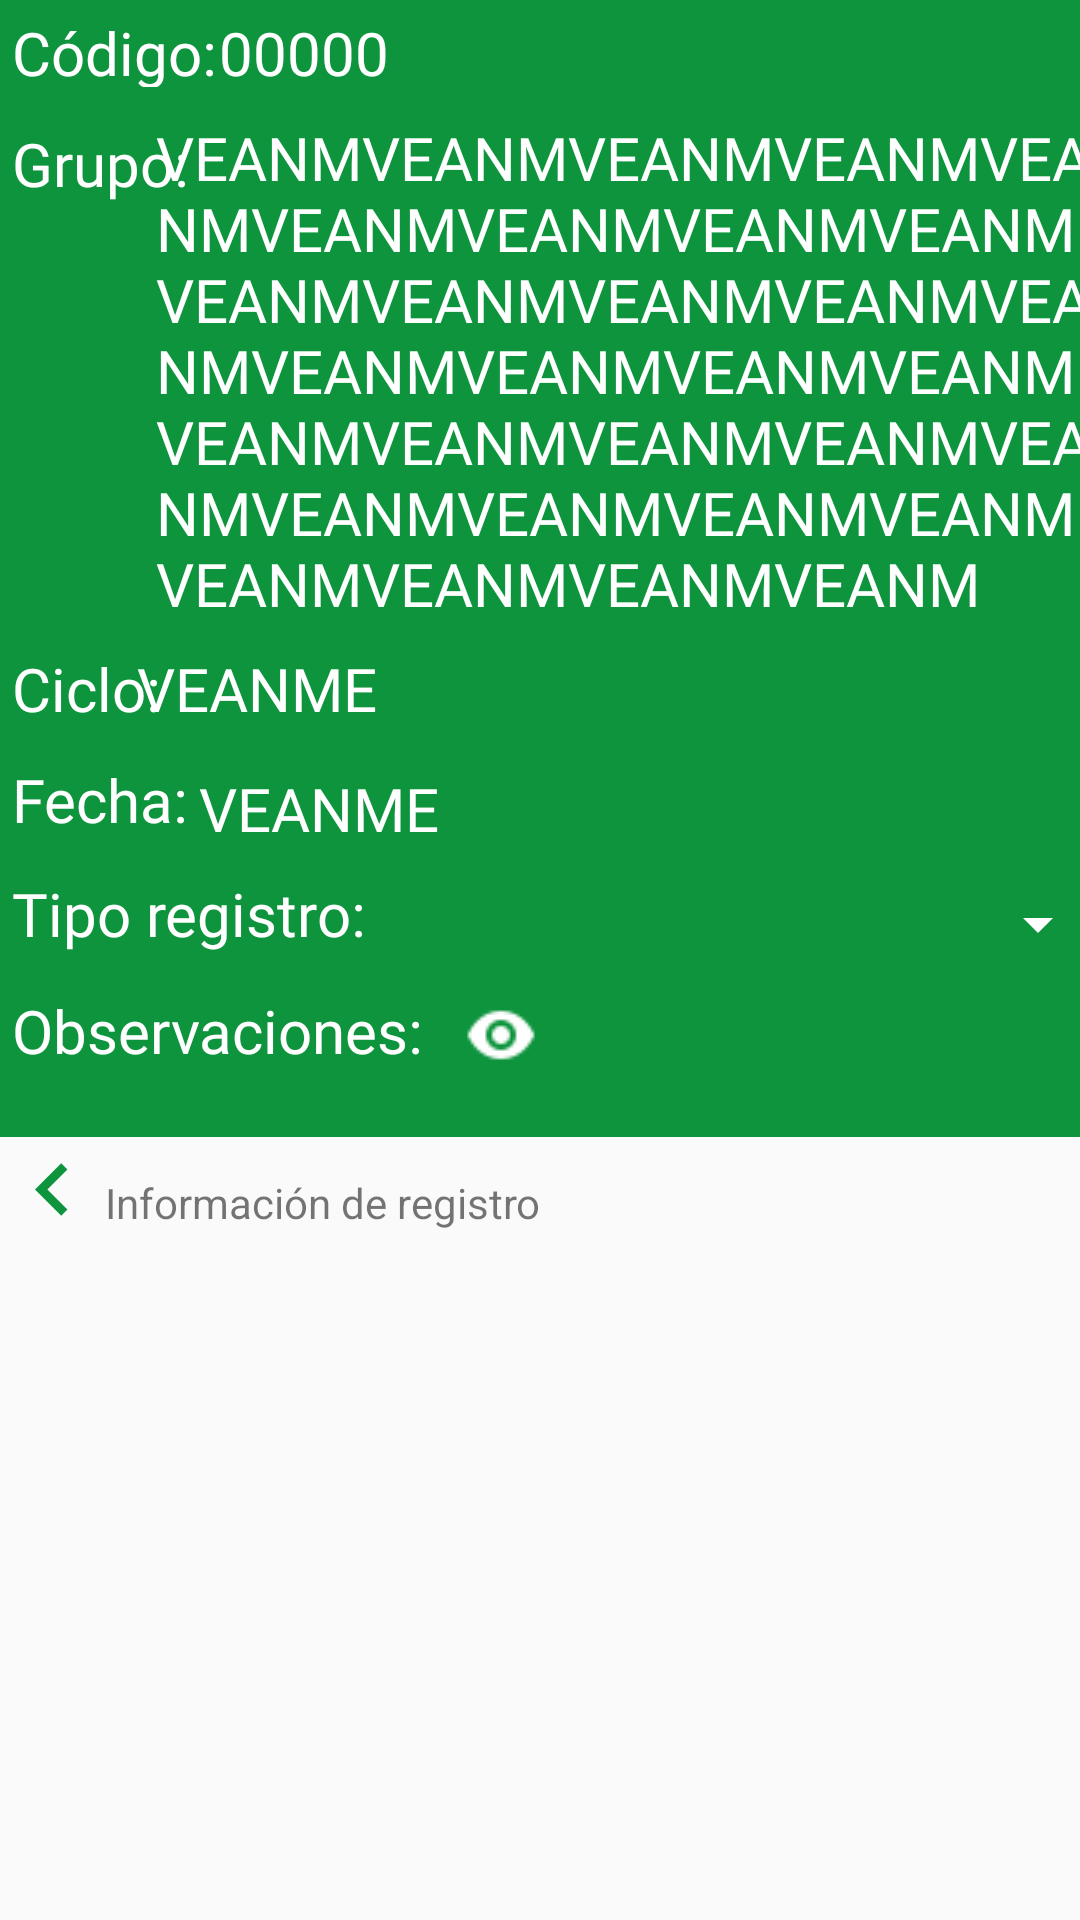

Where to tap for icons on this 1080x1920 app screen, as [x,y]:
chevron left: [51,1189]
ojo: [501,1035]
